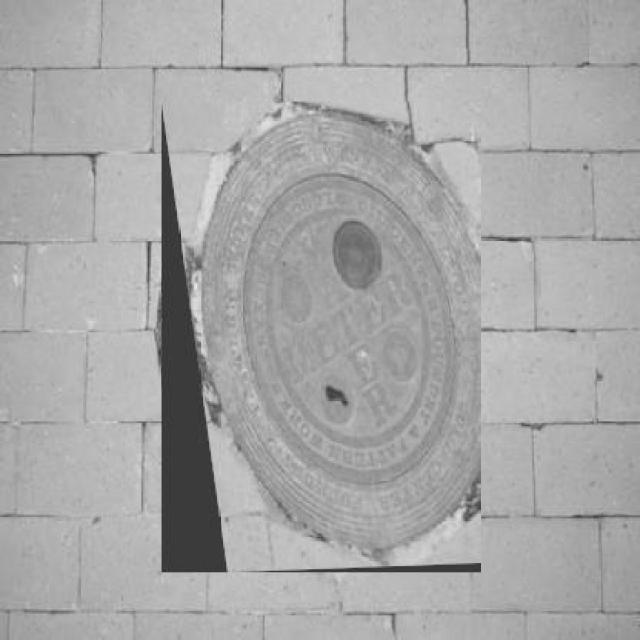Manhole: (161, 101, 480, 572)
